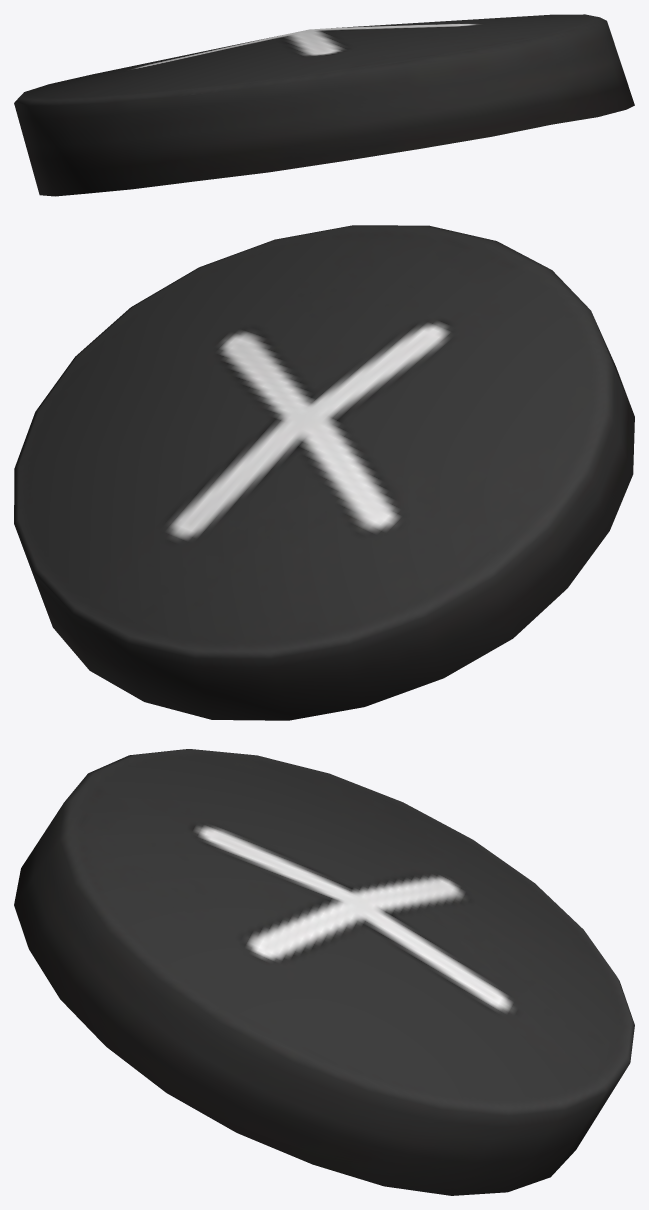
Rendered from left_x_button.obj.
3 views of the same model, one above another, from view 1: azimuth 30°, elevation 25°; view 2: azimuth 150°, elevation 25°; view 3: azimuth 270°, elevation 25° (orthographic). The views are drawn at different scales.
Visible parts, largest first — view 1: left_x_button; view 2: left_x_button; view 3: left_x_button.
Part boxes in pixels (x1=…): left_x_button: x1=14, y1=14, x2=634, y2=196; left_x_button: x1=14, y1=225, x2=634, y2=720; left_x_button: x1=14, y1=749, x2=634, y2=1195.
Size of the model in its own units: 0.0107 by 0.00572 by 0.0107.
1 material, 1 textured.
